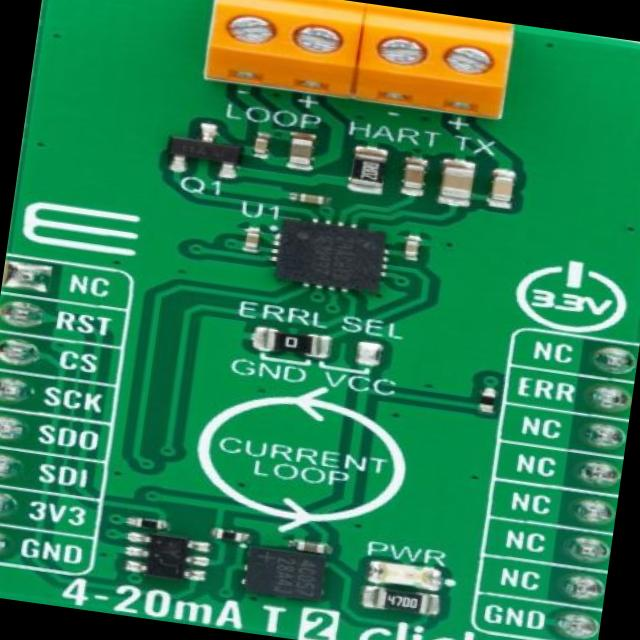IC: (274, 218, 392, 302), (238, 544, 326, 598), (136, 532, 214, 582)
LED: (372, 561, 452, 593)
capacitor: (441, 162, 478, 208), (281, 132, 320, 172), (490, 172, 520, 209), (402, 159, 427, 193), (294, 190, 329, 206), (242, 230, 266, 253), (300, 539, 328, 556), (406, 240, 428, 261), (254, 134, 271, 154)
connector: (354, 6, 516, 117), (200, 0, 364, 98)
resistor: (365, 588, 446, 620), (269, 332, 324, 362), (354, 152, 386, 186), (473, 390, 502, 418), (136, 516, 168, 530), (214, 530, 248, 542)
transistor: (168, 120, 242, 182)
